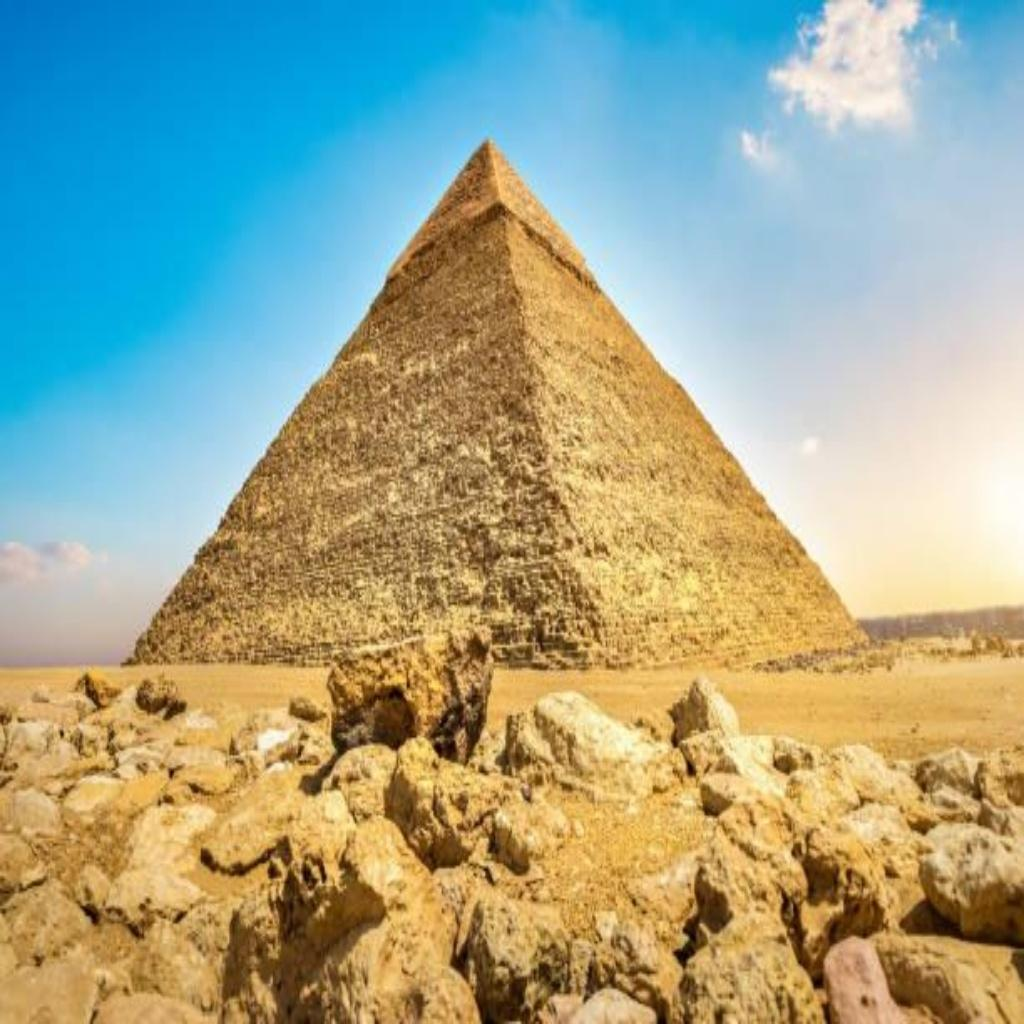Great Pyramids of Giza: (124, 133, 874, 673)
